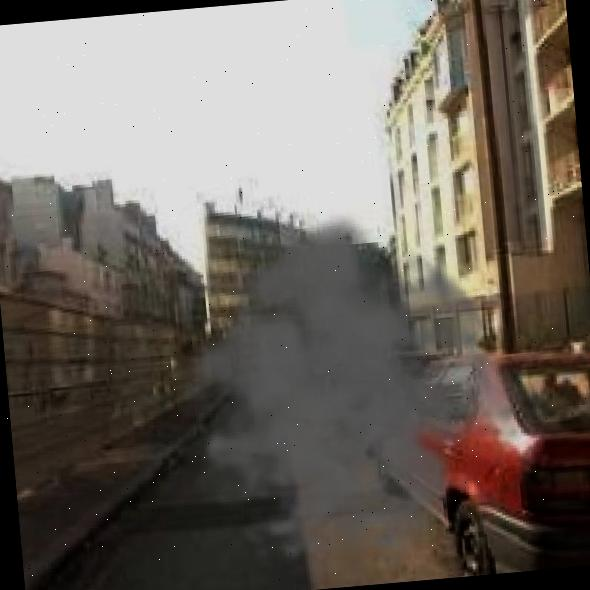smoke: (148, 199, 546, 590)
